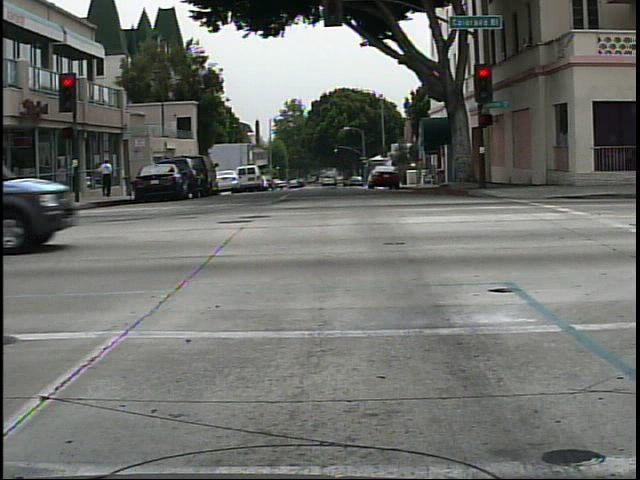person: (458, 139, 487, 196), (97, 154, 117, 200)
